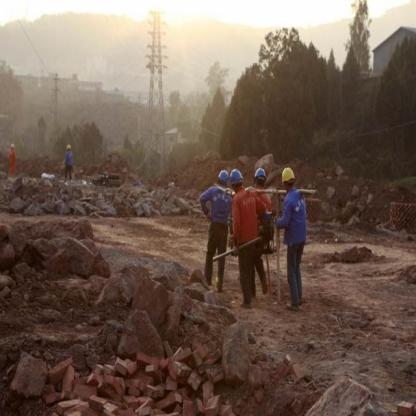blue-helm: (228, 167, 241, 186), (252, 164, 265, 180), (217, 167, 227, 183)
person: (269, 167, 310, 310), (226, 163, 262, 307), (198, 167, 230, 291), (248, 167, 278, 278), (5, 140, 22, 181), (60, 137, 76, 176)
yellow-helm: (281, 162, 296, 184)
